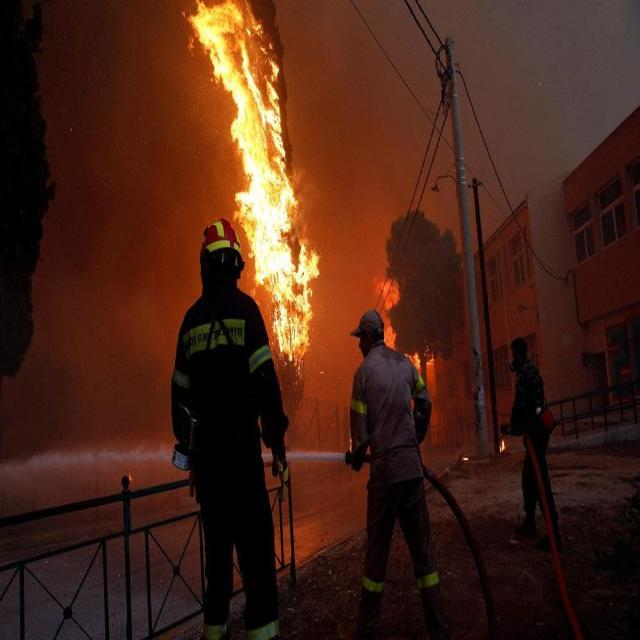Fire: (199, 19, 312, 322)
